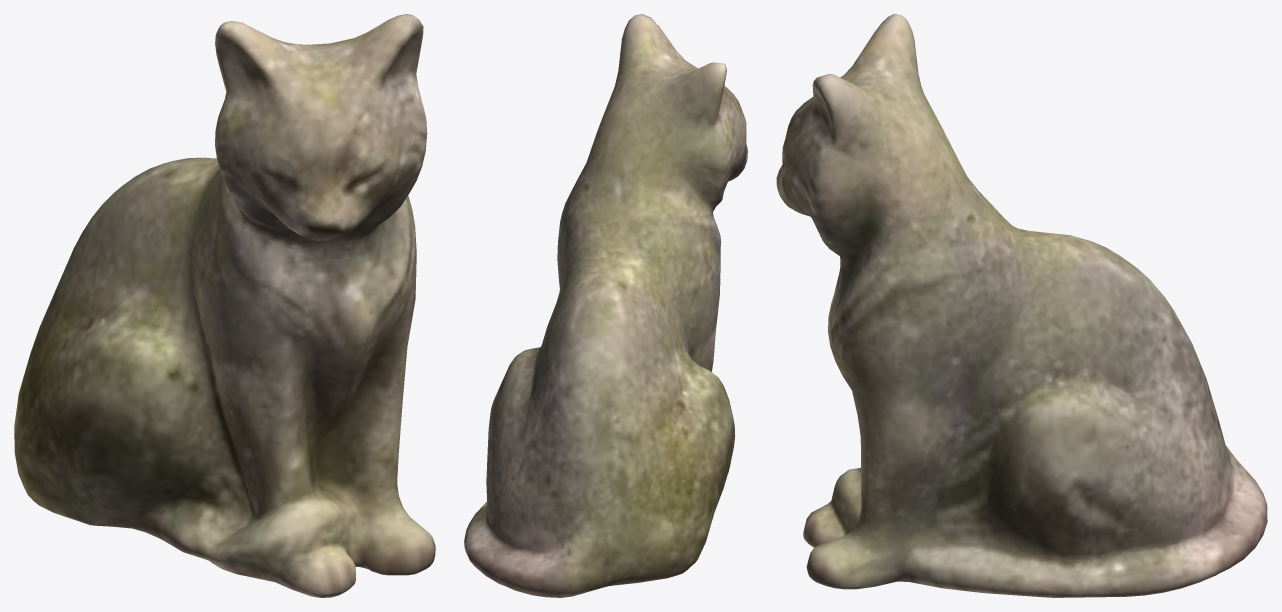
File: concrete_cat_statue.glb
The picture shows the model from 3 angles, left to right: view 1: azimuth 30°, elevation 25°; view 2: azimuth 150°, elevation 25°; view 3: azimuth 270°, elevation 25°; orthographic projection. The views are drawn at different scales.
Parts seen in each view (by area): view 1: concrete_cat_statue; view 2: concrete_cat_statue; view 3: concrete_cat_statue.
Part boxes in pixels (x1,y1,x2,y2): concrete_cat_statue: (14,14,435,597); concrete_cat_statue: (464,14,747,597); concrete_cat_statue: (776,14,1267,597).
Size of the model in its own units: 0.153 by 0.2828 by 0.25.
1 material, 1 textured.
